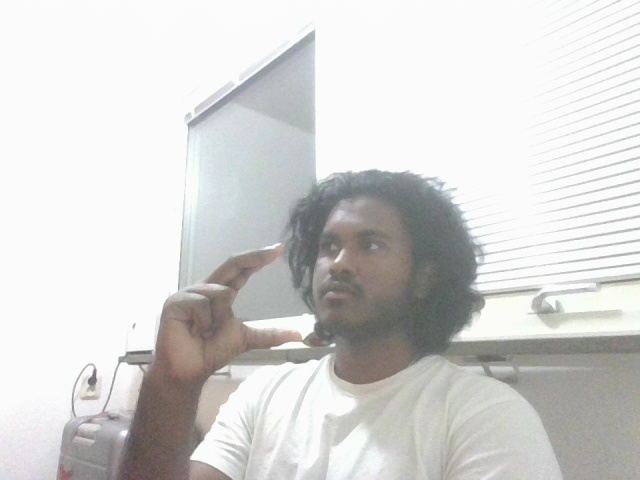no: (145, 237, 312, 368)
